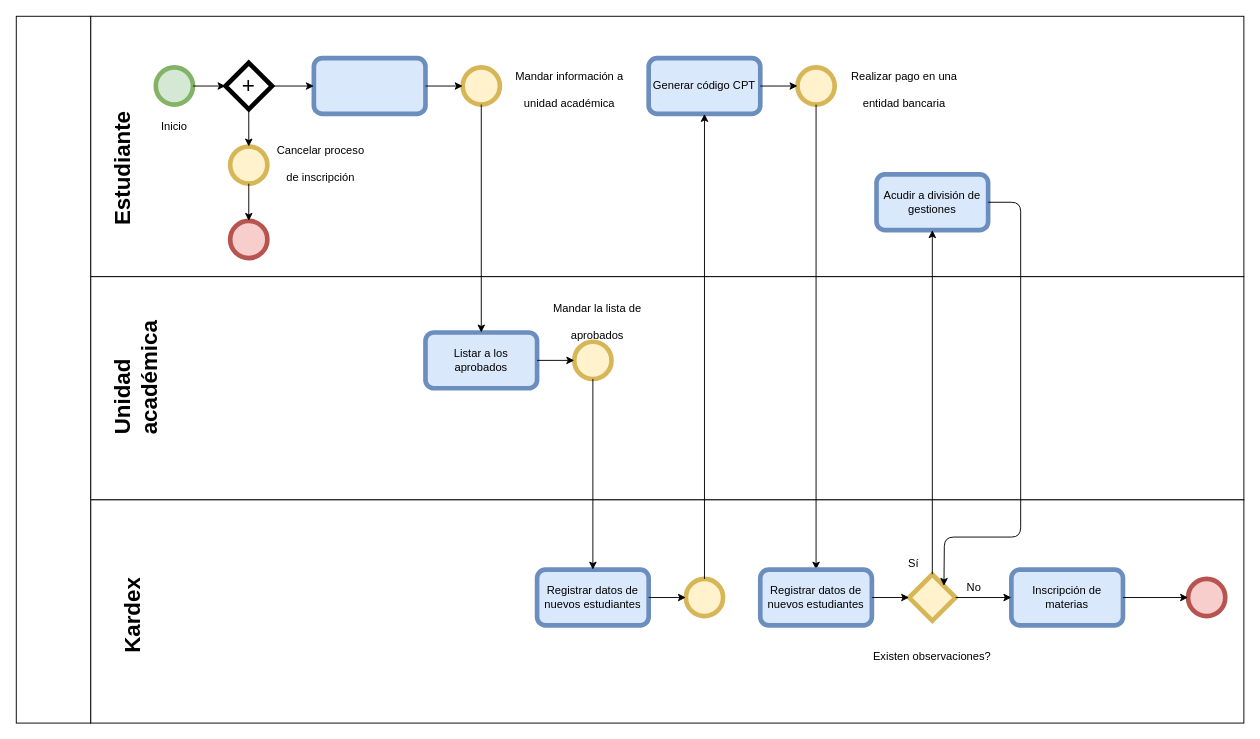
The diagram is 1260 pixels wide and 739 high, and some of its shapes have lost their labels. Each missing label, with the box of its shape:
Inscribirse a una carrera: (311, 55, 427, 116)
Proceso de inscripción: (15, 15, 91, 723)
